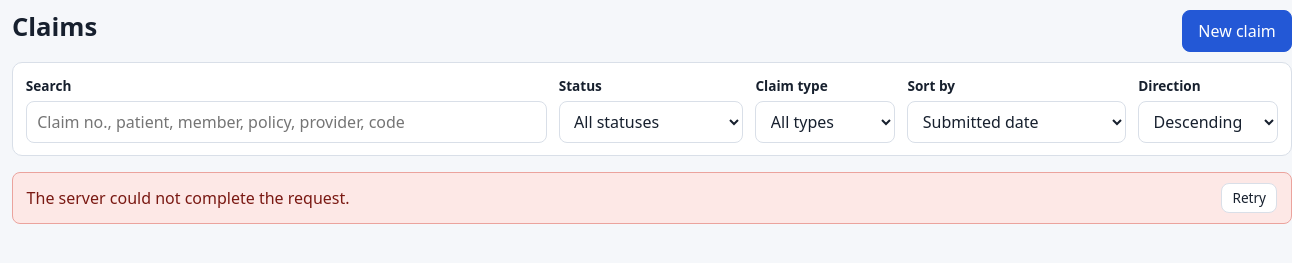
Test: ClaimsPage › shows an empty state and a retryable error
Check: the text "The server could not complete the request." is shown, box 27,187 -> 350,209
Click the button "Retry": (1249, 198) 1221,183 -> 1277,213
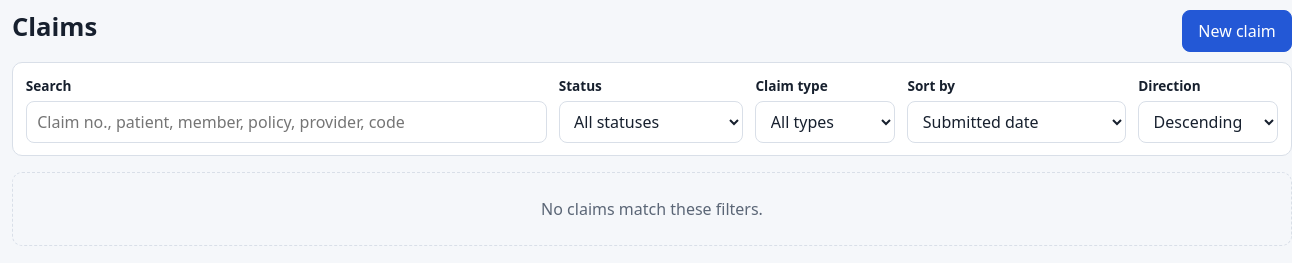
Check: the text "No claims match these filters." is shown, box 12,172 -> 1291,246
